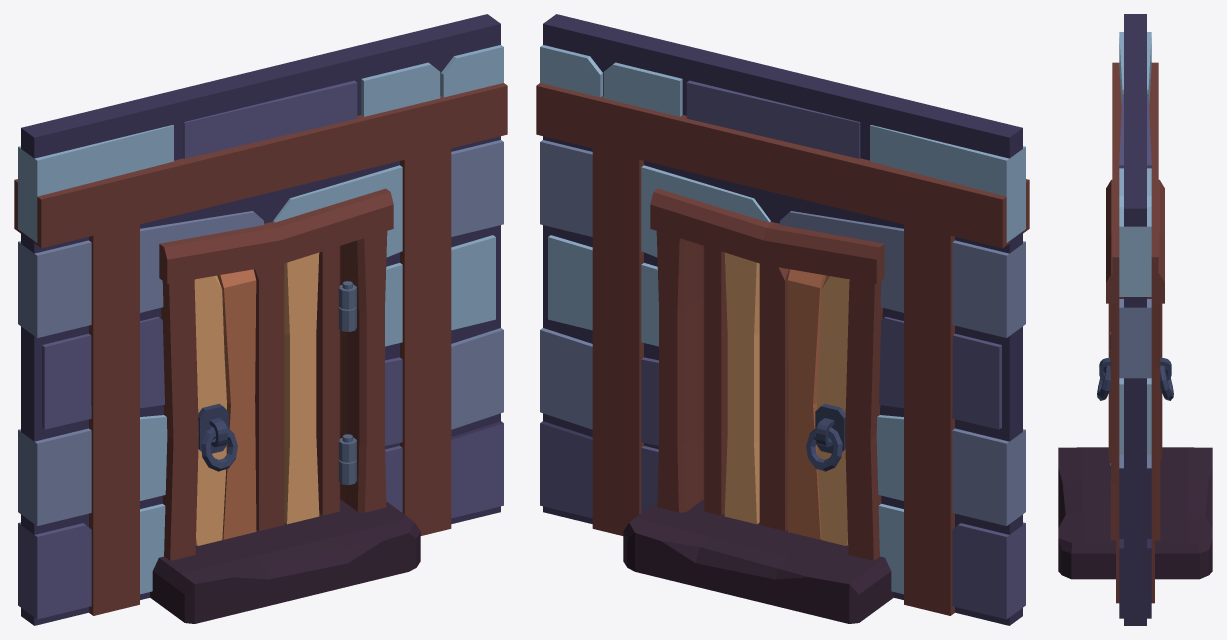
Rendered from Modular Wall 09 MK2 D2.fbx.
The picture shows the model from 3 angles, left to right: view 1: azimuth 30°, elevation 25°; view 2: azimuth 150°, elevation 25°; view 3: azimuth 270°, elevation 25°; orthographic projection. The views are drawn at different scales.
Visible parts, largest first — view 1: Modular Wall 09 MK2 D2, Modular Wall 09 D2 Doors; view 2: Modular Wall 09 MK2 D2, Modular Wall 09 D2 Doors; view 3: Modular Wall 09 MK2 D2, Modular Wall 09 D2 Doors.
Part boxes in pixels (left/top/right/bottom): Modular Wall 09 MK2 D2: left=14, top=14, right=507, bottom=625; Modular Wall 09 D2 Doors: left=194, top=246, right=356, bottom=545; Modular Wall 09 MK2 D2: left=536, top=14, right=1029, bottom=625; Modular Wall 09 D2 Doors: left=703, top=246, right=849, bottom=545; Modular Wall 09 MK2 D2: left=1058, top=14, right=1212, bottom=625; Modular Wall 09 D2 Doors: left=1097, top=332, right=1173, bottom=481.
Bounding box in the file's own units: 400 × 400 × 134.
